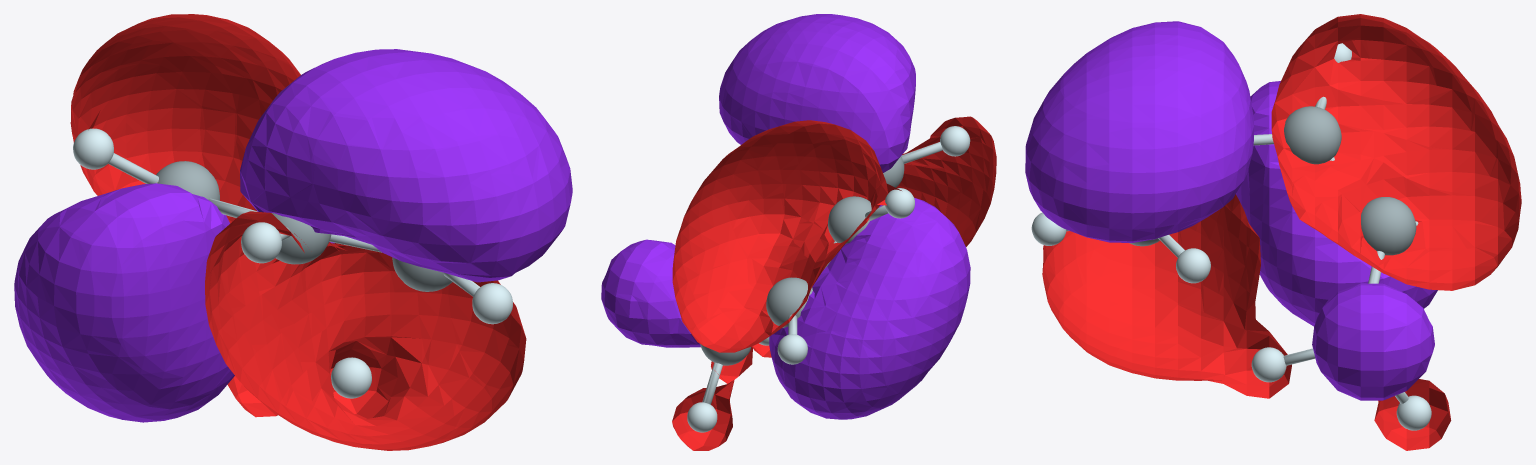
The picture shows the model from 3 angles, left to right: view 1: azimuth 30°, elevation 25°; view 2: azimuth 150°, elevation 25°; view 3: azimuth 270°, elevation 25°; orthographic projection. The views are drawn at different scales.
Parts seen in each view (by area): view 1: Renderer Node; view 2: Renderer Node; view 3: Renderer Node.
Boxes of the visible parts, left/top/right/bottom form: Renderer Node: left=14, top=14, right=572, bottom=450; Renderer Node: left=601, top=14, right=996, bottom=450; Renderer Node: left=1025, top=14, right=1521, bottom=450.
Size of the model in its own units: 4.9 by 5.02 by 5.66.
